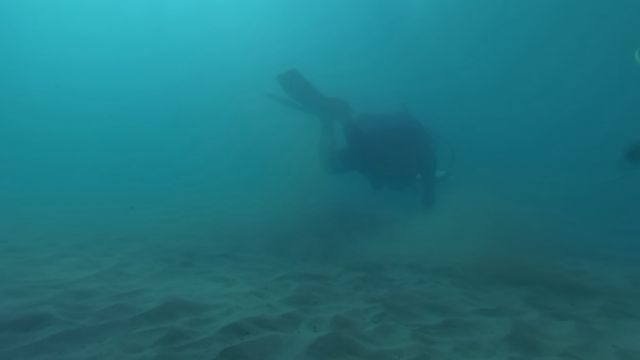Diver: (256, 61, 456, 214)
